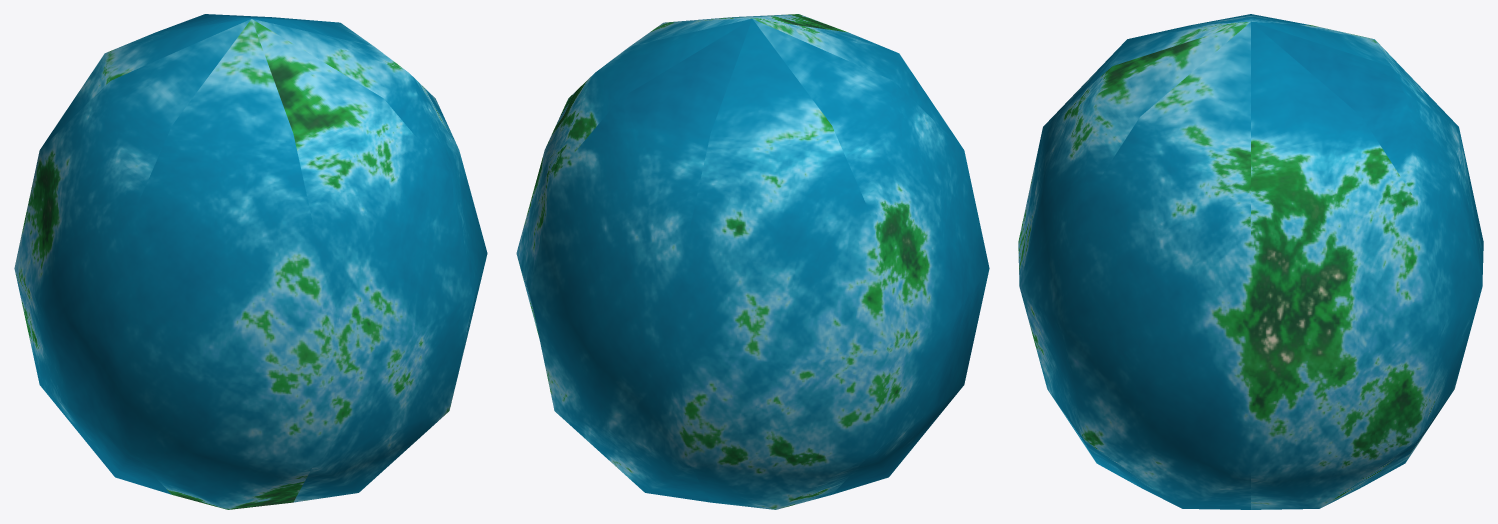
File: Planet7.fbx
3 views of the same model, side by side, from view 1: azimuth 30°, elevation 25°; view 2: azimuth 150°, elevation 25°; view 3: azimuth 270°, elevation 25° (orthographic).
Visible parts, largest first — view 1: pasted__pasted__pasted__pSphere3; view 2: pasted__pasted__pasted__pSphere3; view 3: pasted__pasted__pasted__pSphere3.
Boxes of the visible parts, bbox=[...] form: pasted__pasted__pasted__pSphere3: bbox=[14, 14, 487, 509]; pasted__pasted__pasted__pSphere3: bbox=[516, 14, 989, 509]; pasted__pasted__pasted__pSphere3: bbox=[1018, 14, 1483, 509].
Bounding box in the file's own units: 1.56 × 1.76 × 1.53.
Materials: 1 (1 with a texture image).
